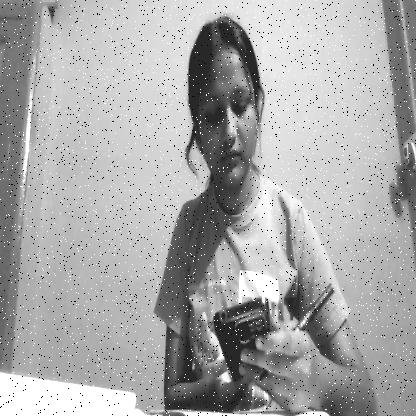Normal: (189, 27, 262, 196)
